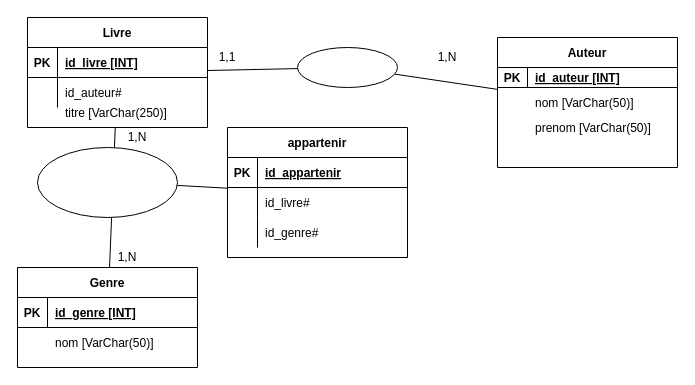
Image size: 695x385. Some labels were removed from this diagram. The centre of each missing label's shape, as x and y in pixels:
appartient: the point at 107,182
ecrire: the point at 347,67
